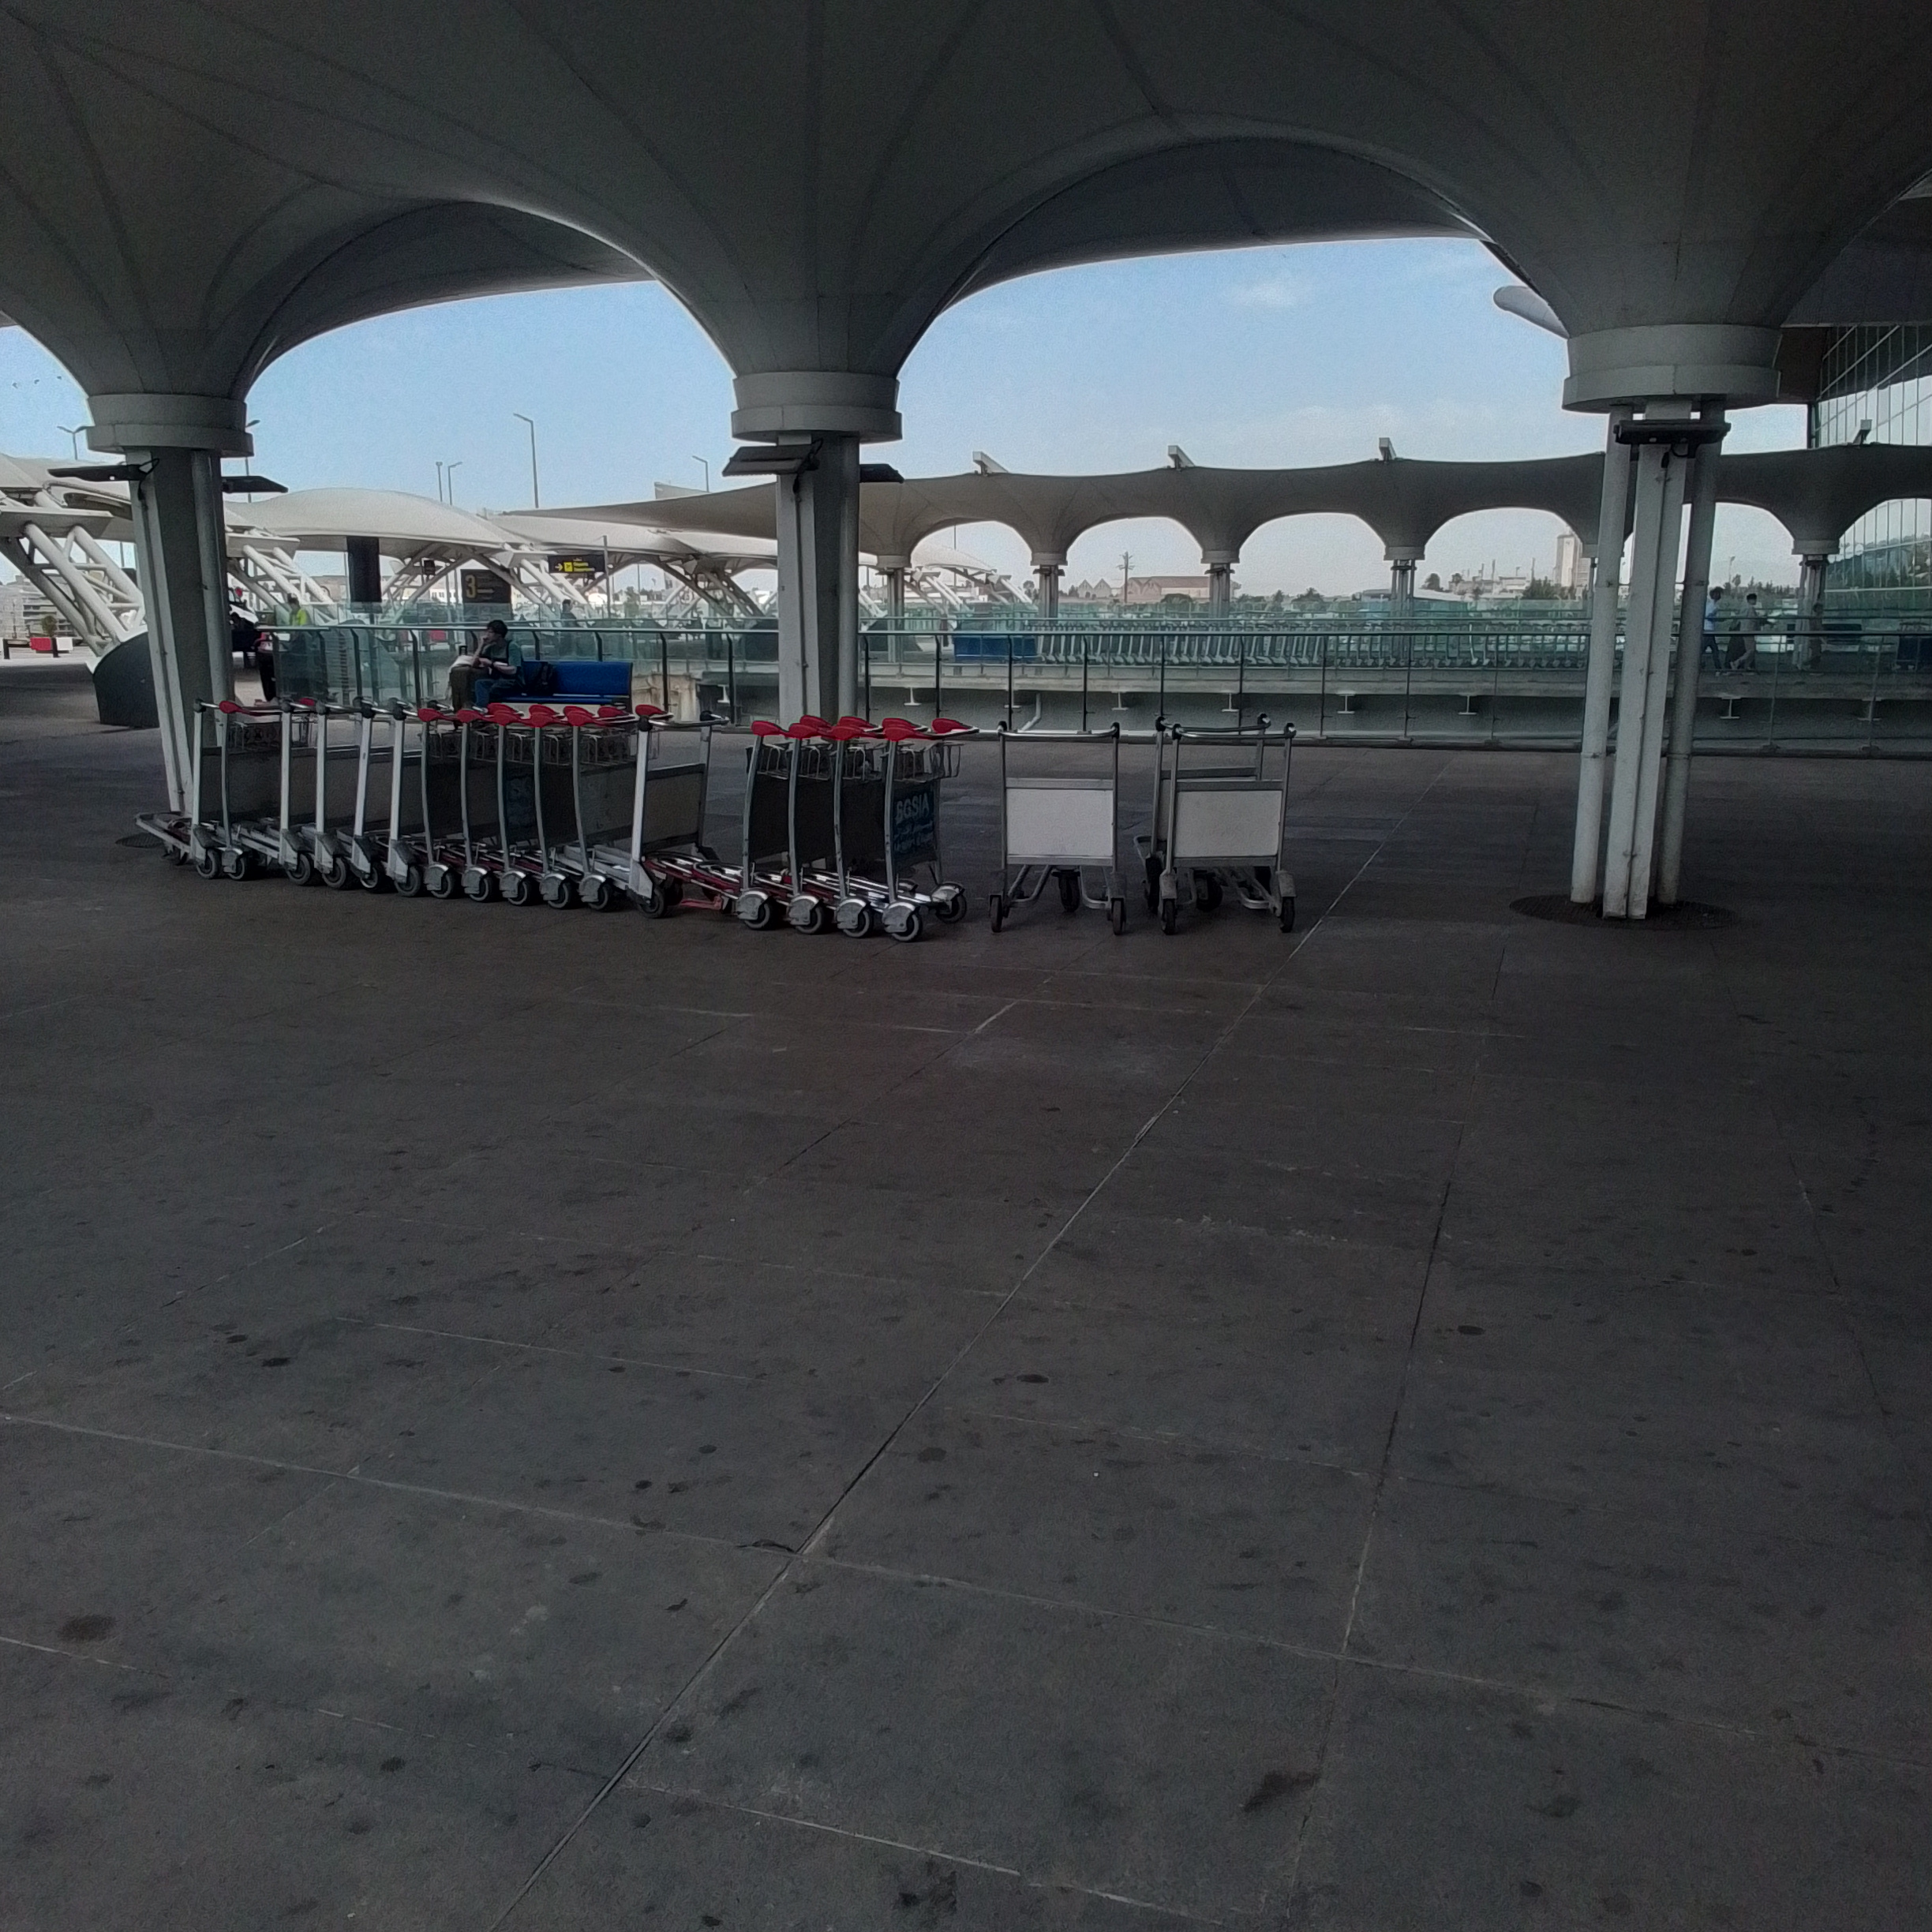airport-trolley: (648, 713, 798, 932), (571, 706, 727, 916), (993, 724, 1129, 939), (533, 704, 658, 918), (1168, 731, 1304, 927), (878, 715, 975, 938), (823, 711, 908, 936), (198, 695, 294, 878), (136, 701, 235, 860), (226, 695, 311, 881), (777, 711, 846, 932), (272, 690, 343, 876), (373, 690, 426, 893), (304, 688, 357, 876), (409, 690, 455, 897), (341, 692, 389, 888), (448, 697, 494, 897), (533, 701, 577, 902), (490, 695, 525, 909)
